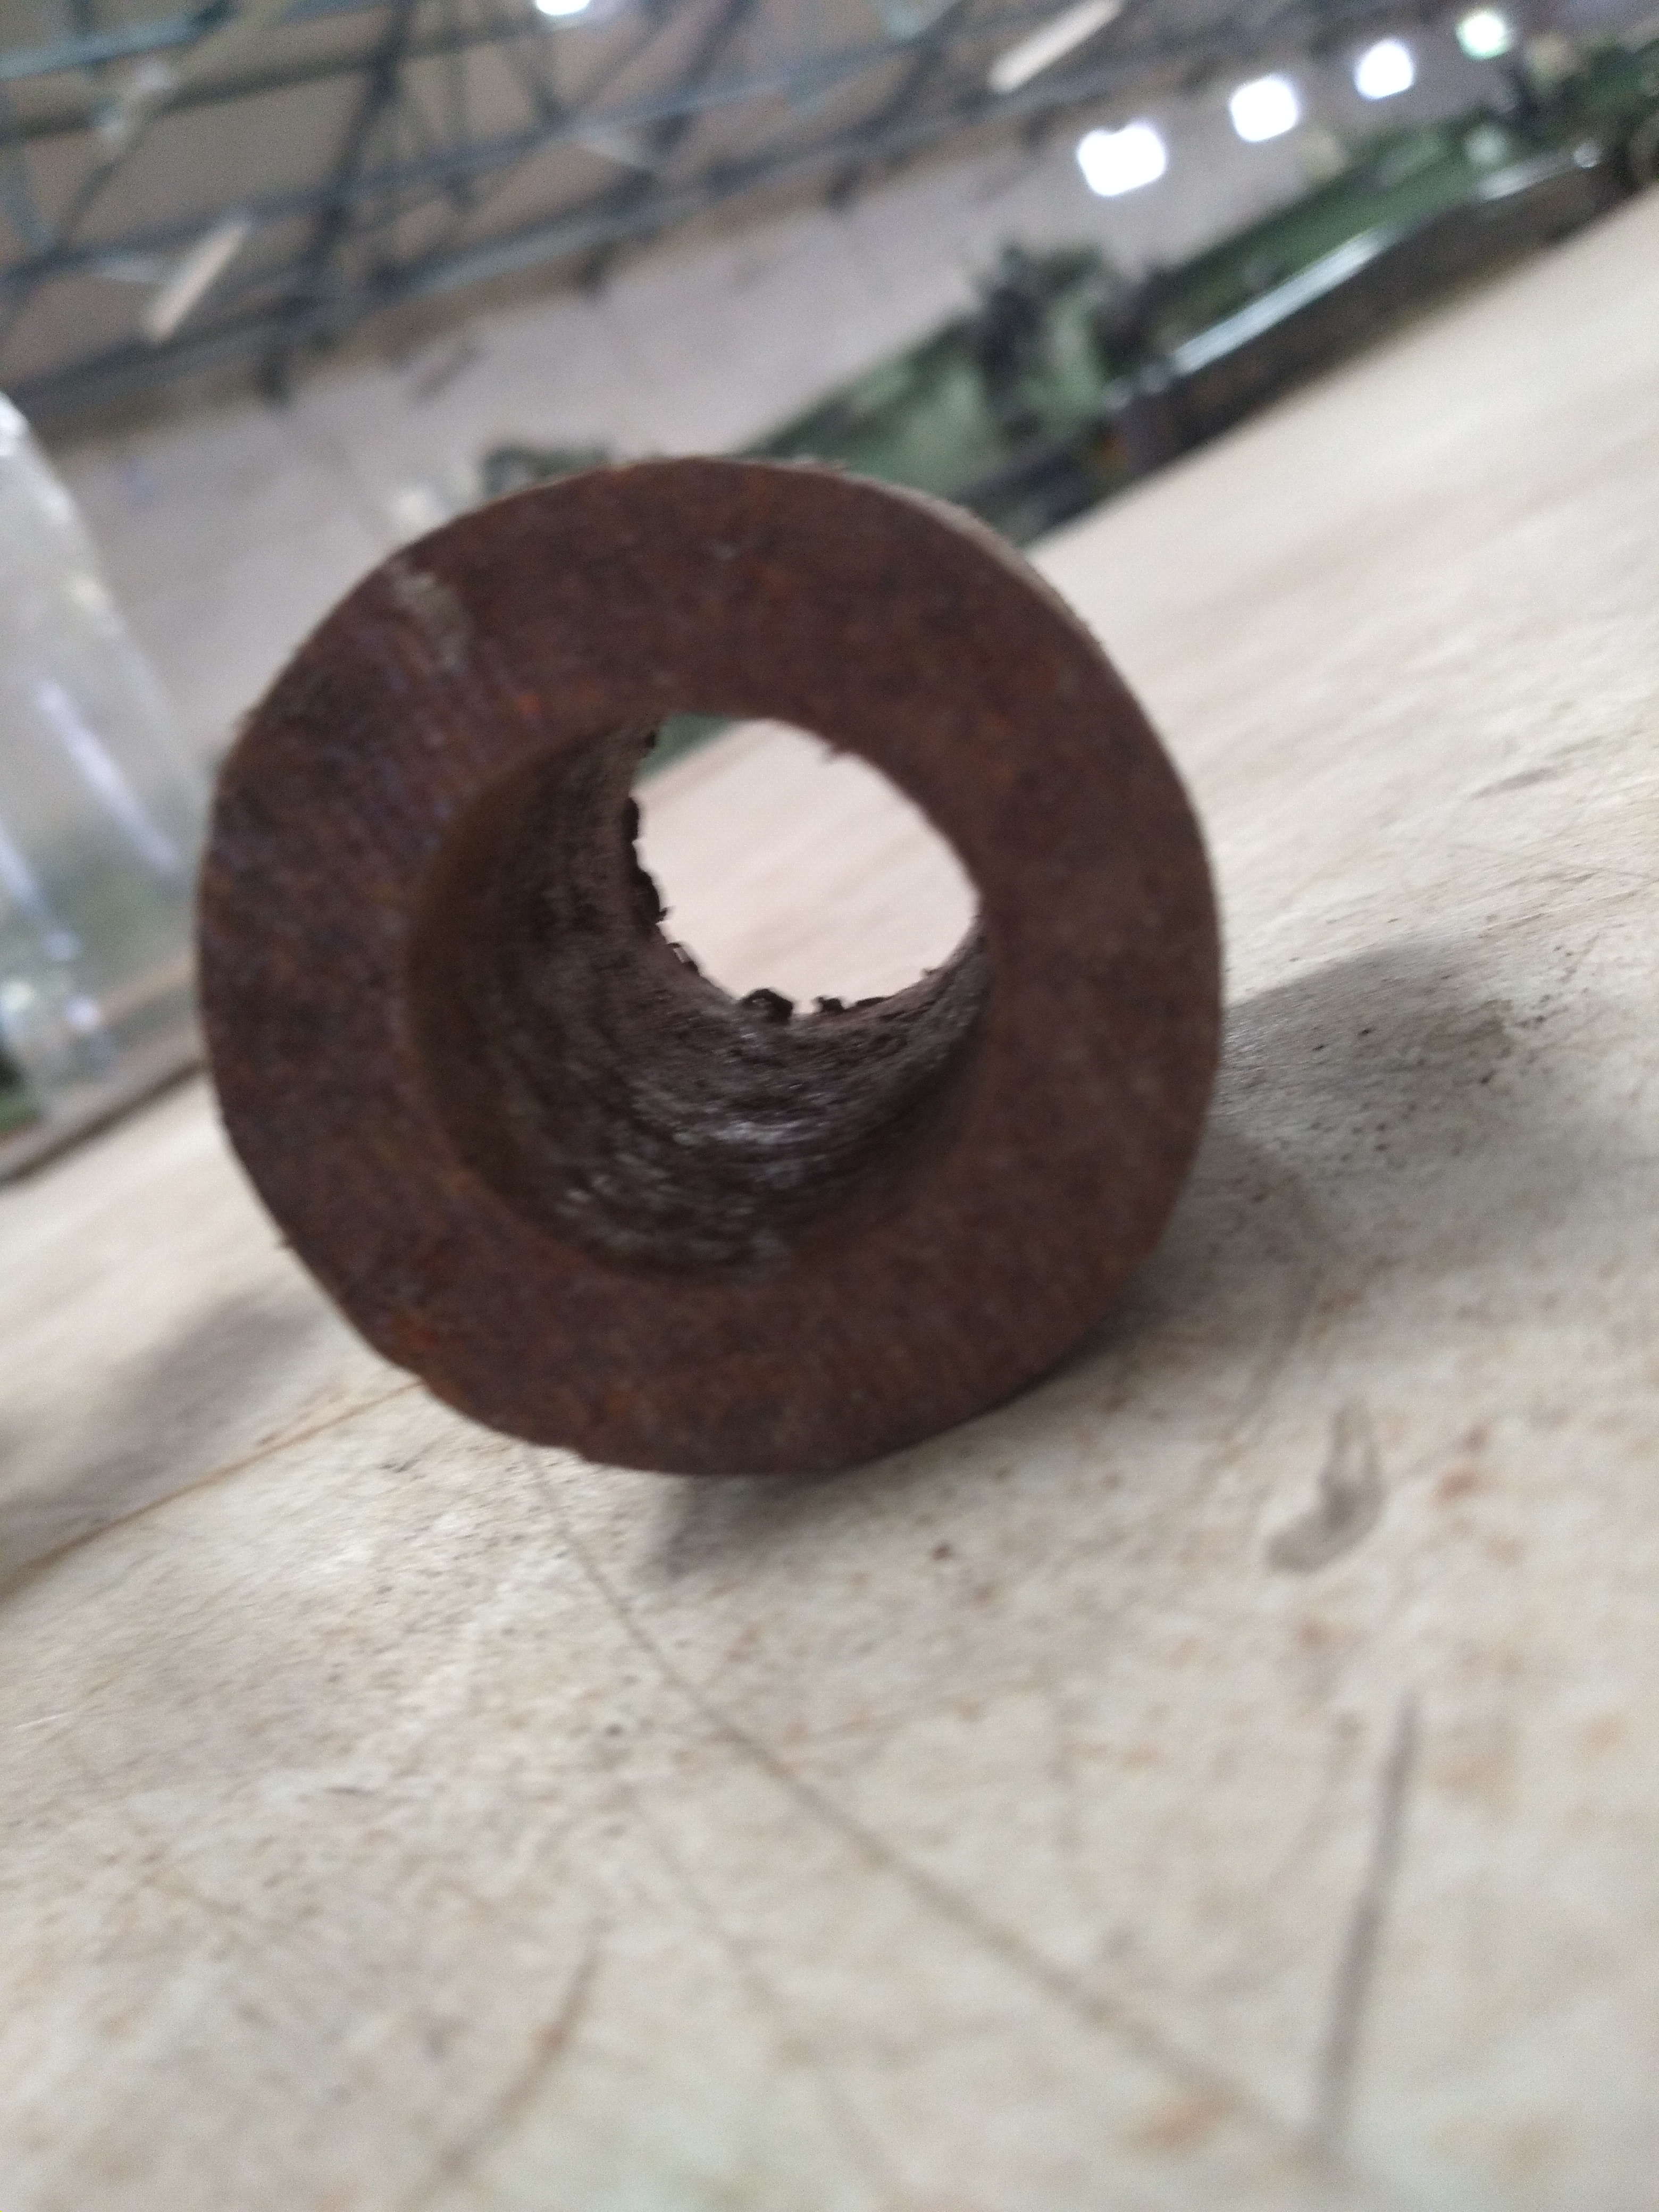No thread: (340, 603, 1110, 1329)
